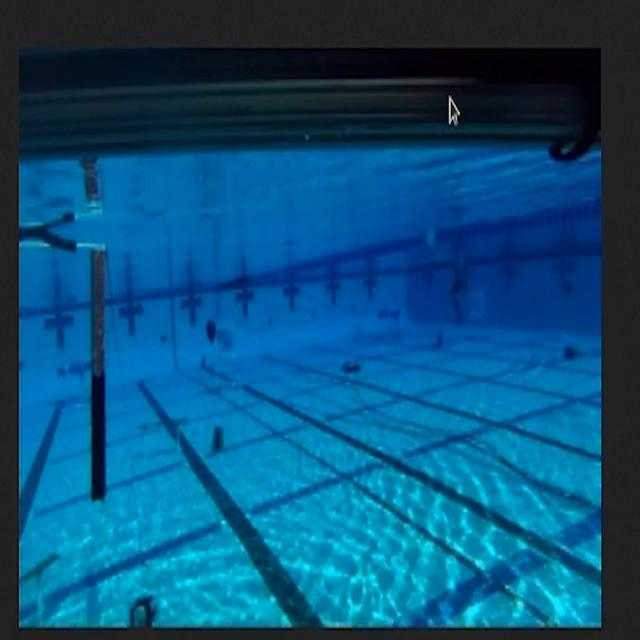Gate: (24, 228, 112, 510)
